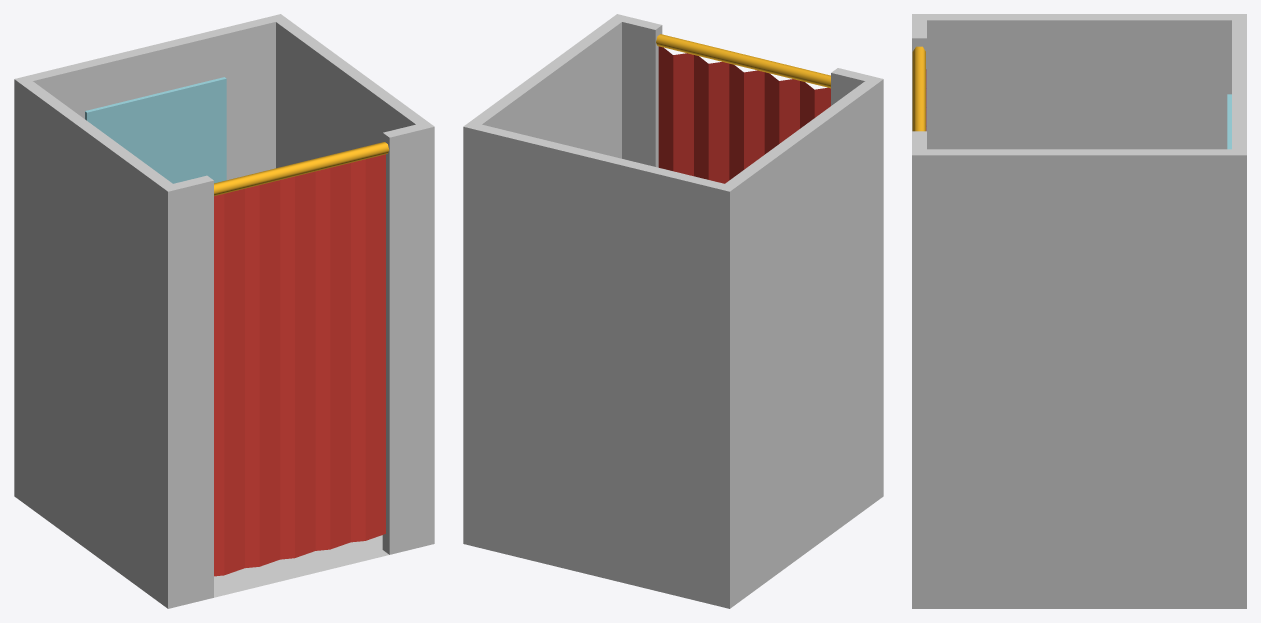
File: booth.fbx
The picture shows the model from 3 angles, left to right: view 1: azimuth 30°, elevation 25°; view 2: azimuth 150°, elevation 25°; view 3: azimuth 270°, elevation 25°; orthographic projection. The views are drawn at different scales.
Visible parts, largest first — view 1: booth; view 2: booth; view 3: booth.
Part boxes in pixels (<box>): booth: <box>14,14,434,608</box>; booth: <box>463,14,883,608</box>; booth: <box>912,14,1246,608</box>.
Bounding box in the file's own units: 2.74 × 4.12 × 2.74.
